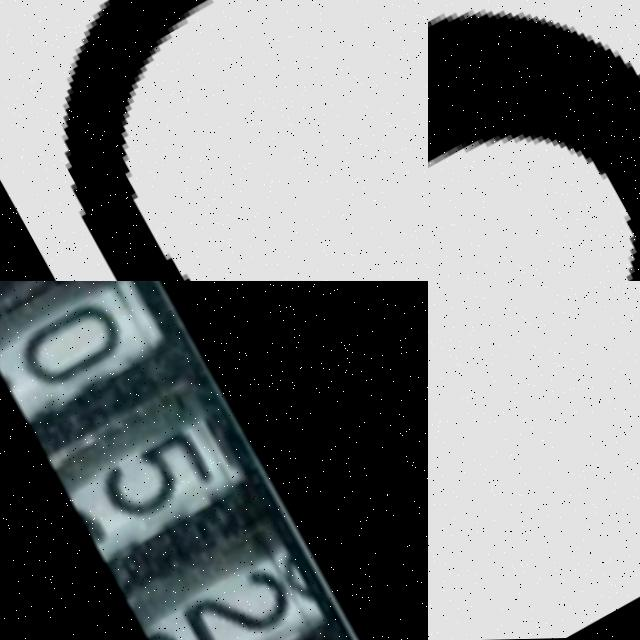0: (5, 288, 133, 398)
2: (174, 553, 301, 640)
5: (86, 418, 220, 533)
C: (59, 0, 213, 281)
L: (428, 281, 640, 614)
O: (428, 8, 640, 281)
